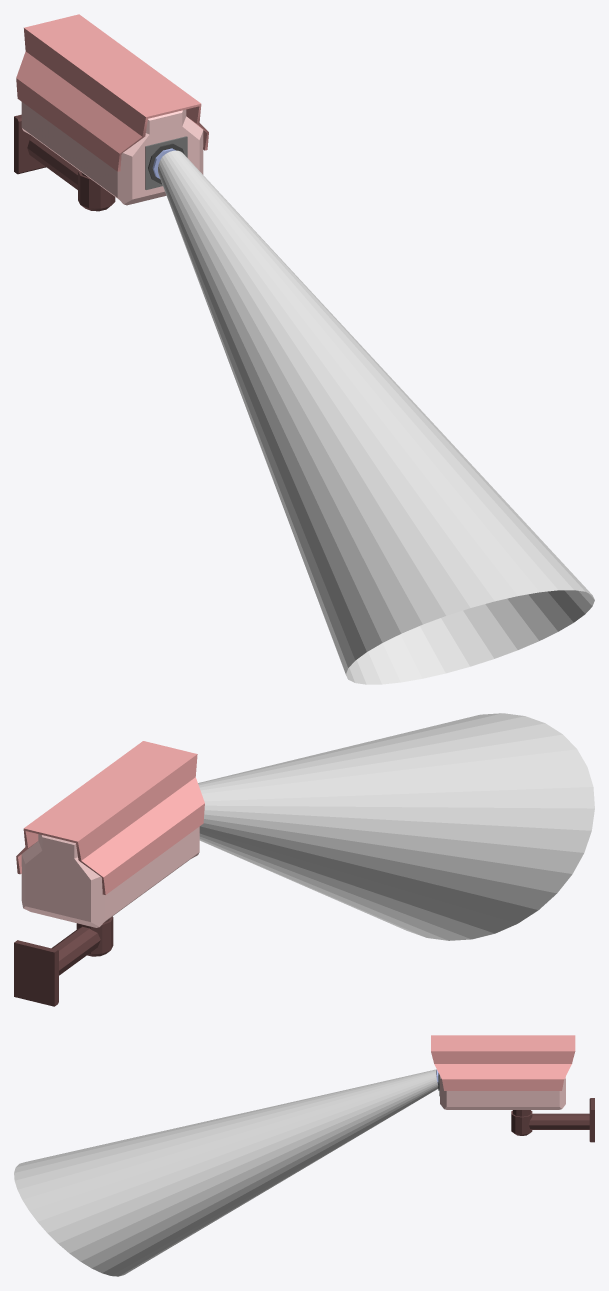
The model's file is camera+lightfack.fbx.
The picture shows the model from 3 angles, top to bottom: view 1: azimuth 30°, elevation 25°; view 2: azimuth 150°, elevation 25°; view 3: azimuth 270°, elevation 25°; orthographic projection. The views are drawn at different scales.
Parts seen in each view (by area): view 1: Cylinder, pCube6, pCube5; view 2: Cylinder, pCube6, pCube5; view 3: Cylinder, pCube6, pCube5.
Part boxes in pixels (bbox=[...]): Cylinder: bbox=[158, 150, 594, 684]; pCube6: bbox=[16, 14, 208, 205]; pCube5: bbox=[14, 114, 115, 211]; Cylinder: bbox=[198, 713, 594, 940]; pCube6: bbox=[16, 741, 204, 927]; pCube5: bbox=[14, 916, 113, 1006]; Cylinder: bbox=[14, 1069, 438, 1276]; pCube6: bbox=[431, 1035, 575, 1109]; pCube5: bbox=[511, 1098, 594, 1142].
Size of the model in its own units: 568 by 915 by 2150.
